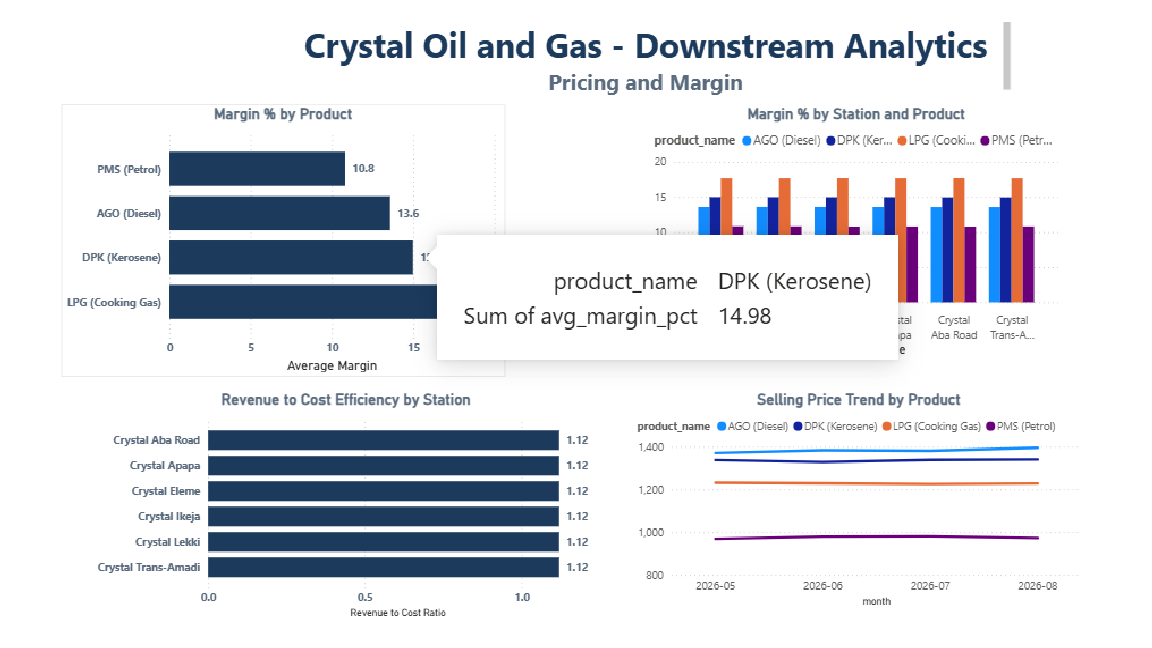

The page's visual inventory and layout, read from the dashboard file:
{"tool":"powerbi","page":{"name":"Pricing and Margin","canvas":[1280,720],"ordinal":3},"visuals":[{"type":"clusteredBarChart","title":"Margin % by Product","fields":{"Category":["vw_product_margin.product_name"],"Y":["Sum(vw_product_margin.avg_margin_pct)"]},"box":[5.7,155,493.2,296.7],"z":0},{"type":"textbox","box":[253.2,58.6,812.6,96.4],"z":1000},{"type":"clusteredColumnChart","title":"Margin % by Station and Product","fields":{"Category":["vw_station_margin_variation.station_name"],"Y":["Avg(vw_station_margin_variation.avg_margin_pct)"],"Series":["vw_station_margin_variation.product_name"]},"box":[659.5,155,459.2,279.7],"z":2000},{"type":"clusteredBarChart","title":"Revenue to Cost Efficiency by Station","fields":{"Category":["vw_station_cost_efficiency.station_name"],"Y":["Sum(vw_station_cost_efficiency.revenue_to_cost_ratio)"]},"box":[39.7,466.8,565,253.2],"z":3000},{"type":"lineChart","title":"Selling Price Trend by Product","fields":{"Category":["vw_price_vs_volume_trend.month"],"Y":["Sum(vw_price_vs_volume_trend.selling_price)"],"Series":["vw_price_vs_volume_trend.product_name"]},"box":[640.6,466.8,502.7,240],"z":4000}]}

Visuals, with their boxes in screenshot pixels (x1, y1, x2, y2), scaled from the page's 1280x720 canvas onto the 1152x648 screenshot:
"Margin % by Product" clusteredBarChart: (x1=5, y1=140, x2=449, y2=407)
textbox: (x1=228, y1=53, x2=959, y2=140)
"Margin % by Station and Product" clusteredColumnChart: (x1=594, y1=140, x2=1007, y2=391)
"Revenue to Cost Efficiency by Station" clusteredBarChart: (x1=36, y1=420, x2=544, y2=647)
"Selling Price Trend by Product" lineChart: (x1=577, y1=420, x2=1029, y2=636)
